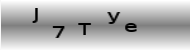7: (50, 25, 65, 38)
J: (30, 6, 39, 24)
T: (76, 21, 91, 35)
e: (124, 22, 137, 32)
y: (105, 10, 120, 24)
